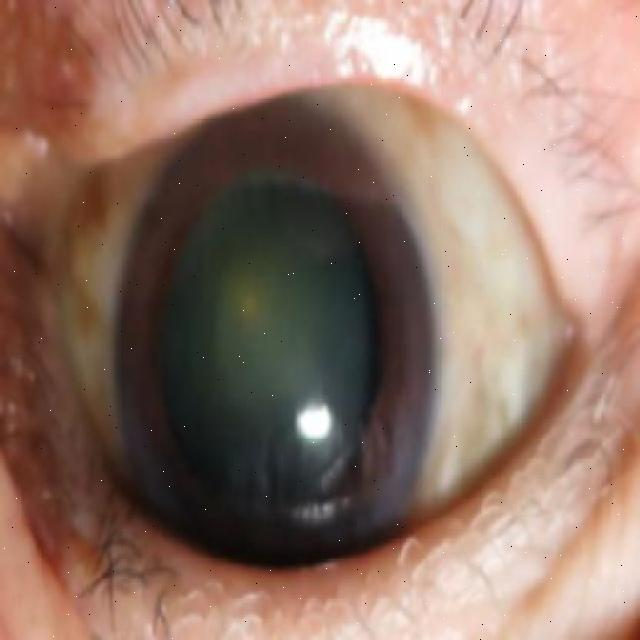Cataract: (116, 86, 430, 594)
